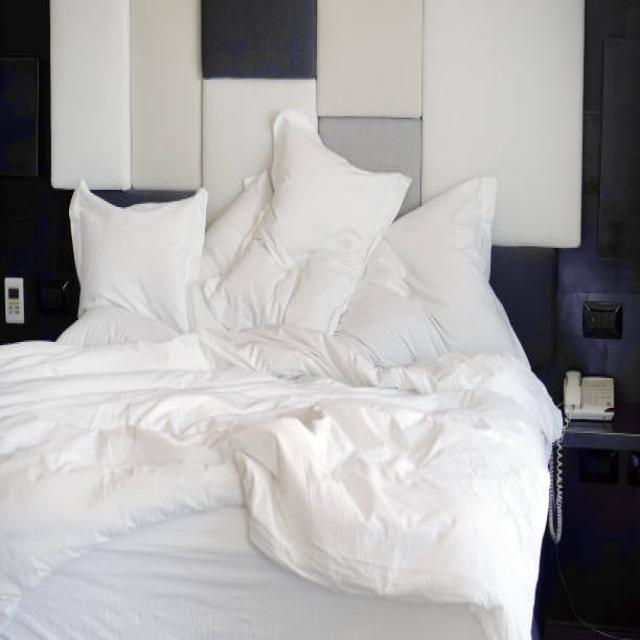bed: (16, 131, 546, 640)
